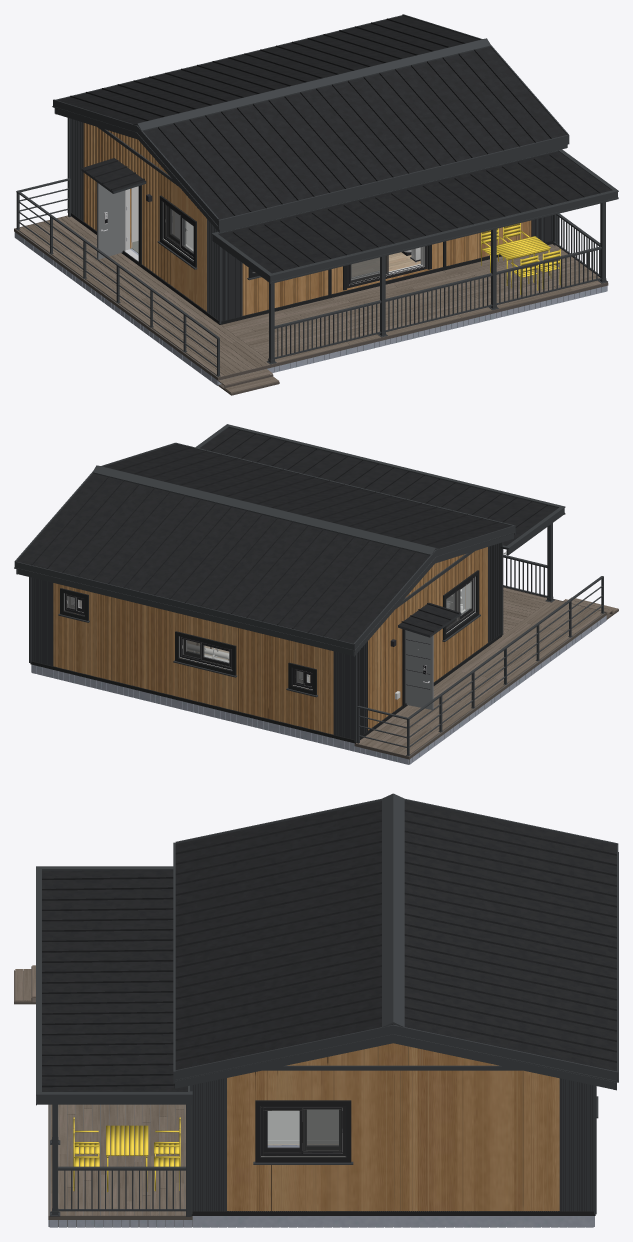
Rendered from seum-bonjeom-19.glb.
3 renders of one model, top to bottom at view 1: azimuth 30°, elevation 25°; view 2: azimuth 150°, elevation 25°; view 3: azimuth 270°, elevation 25°, orthographic. The views are drawn at different scales.
Visible parts, largest first — view 1: 지붕_징크판넬, 지붕_후레싱_차콜, 포치_기둥_다크그레이, 우드_메탈사이딩, 합성데크_X1, 후레싱_차콜, 합성데크_X0, 합성데크_X2, 차콜_골강판, 데크스커트, 합성데크_Y2, 합성데크_Y1 (+11 smaller); view 2: 지붕_징크판넬, 우드_메탈사이딩, 지붕_후레싱_차콜, 차콜_골강판, 포치_기둥_다크그레이, 데크스커트, 창호케이싱, 후레싱_차콜, 합성데크_Y0, 합성데크_Y1, 합성데크_Y2, 현관문_도어패널_다크그레이 (+7 smaller); view 3: 지붕_징크판넬, 우드_메탈사이딩, 지붕_후레싱_차콜, 차콜_골강판, 데크스커트, 후레싱_차콜, 합성데크_X2, 합성데크_X1, 합성데크_X0, 창호케이싱, 포치_기둥_다크그레이, 야외가구_옐로 (+7 smaller).
Boxes of the visible parts, x1,y1,x2,y2 form: 지붕_징크판넬: [57, 16, 611, 273]; 지붕_후레싱_차콜: [52, 14, 569, 234]; 포치_기둥_다크그레이: [16, 178, 607, 376]; 우드_메탈사이딩: [83, 123, 531, 315]; 합성데크_X1: [221, 246, 605, 393]; 후레싱_차콜: [67, 118, 618, 323]; 합성데크_X0: [218, 244, 597, 390]; 합성데크_X2: [221, 248, 599, 358]; 차콜_골강판: [70, 118, 552, 321]; 데크스커트: [14, 232, 607, 385]; 합성데크_Y2: [28, 217, 267, 375]; 합성데크_Y1: [18, 216, 256, 376]; 지붕_징크판넬: [17, 427, 557, 643]; 우드_메탈사이딩: [53, 547, 487, 734]; 지붕_후레싱_차콜: [14, 442, 515, 656]; 차콜_골강판: [31, 543, 500, 739]; 포치_기둥_다크그레이: [357, 523, 604, 755]; 데크스커트: [31, 615, 606, 764]; 창호케이싱: [30, 570, 501, 743]; 후레싱_차콜: [29, 424, 565, 742]; 합성데크_Y0: [366, 600, 588, 754]; 합성데크_Y1: [356, 603, 602, 755]; 합성데크_Y2: [361, 600, 598, 753]; 현관문_도어패널_다크그레이: [405, 630, 433, 709]; 지붕_징크판넬: [42, 801, 616, 1091]; 우드_메탈사이딩: [227, 1070, 559, 1211]; 지붕_후레싱_차콜: [173, 793, 618, 1091]; 차콜_골강판: [192, 1078, 593, 1211]; 데크스커트: [48, 1216, 594, 1227]; 후레싱_차콜: [36, 866, 598, 1214]; 합성데크_X2: [50, 1104, 184, 1215]; 합성데크_X1: [15, 965, 185, 1215]; 합성데크_X0: [23, 969, 185, 1215]; 창호케이싱: [191, 1100, 595, 1215]; 포치_기둥_다크그레이: [50, 1104, 191, 1216]; 야외가구_옐로: [73, 1117, 180, 1192].
Bounding box in the file's own units: 10.77 × 4.05 × 10.56.
188 materials, 30 textured.
